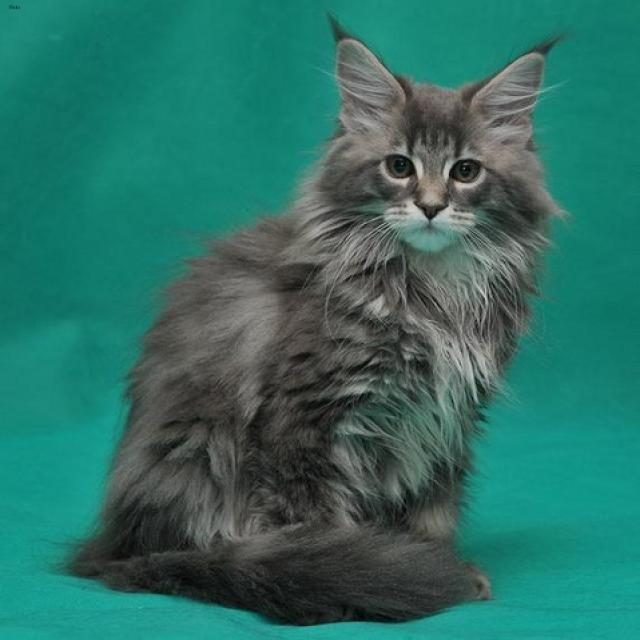Maine_Coon: (323, 32, 554, 266)
